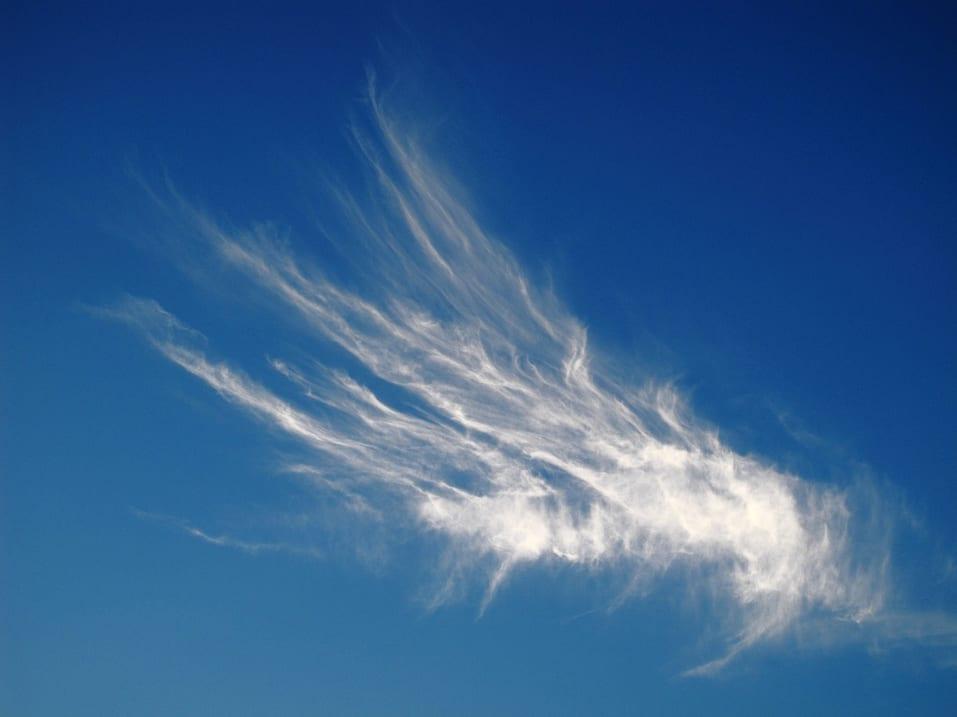Cirrus: (101, 39, 907, 687)
